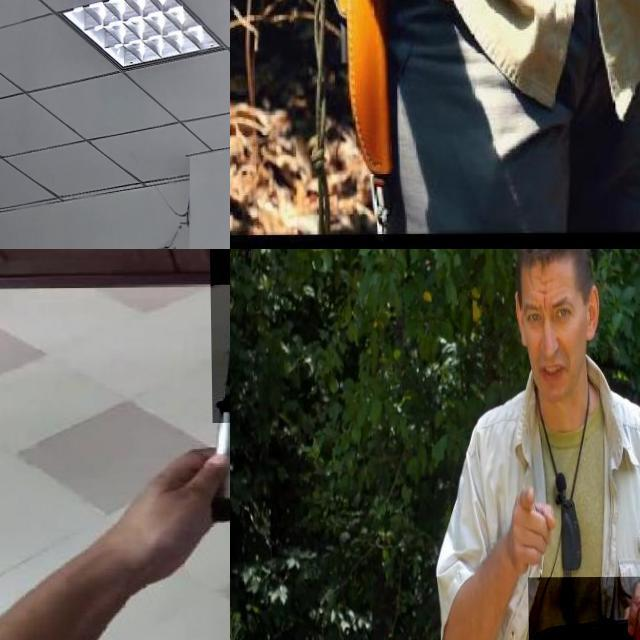-: (367, 0, 625, 34), (526, 577, 640, 640), (209, 249, 230, 423)
